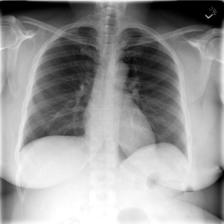normal: (13, 18, 192, 162)
